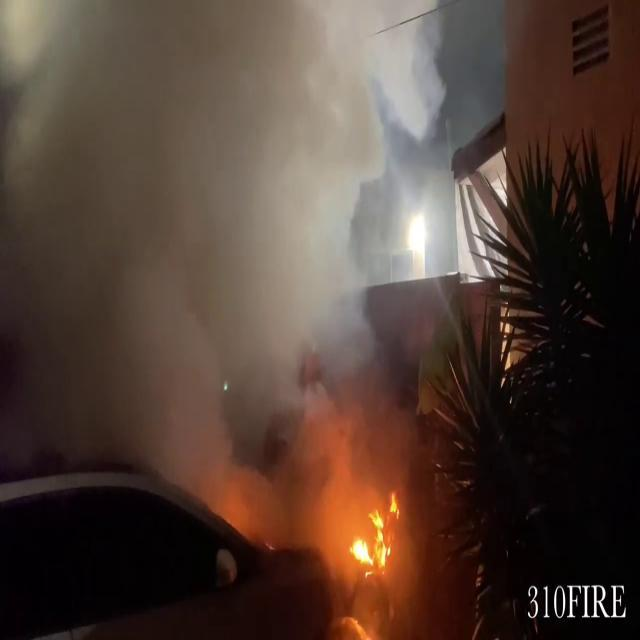Fire: (344, 494, 400, 576)
Smoke: (1, 0, 437, 550)
